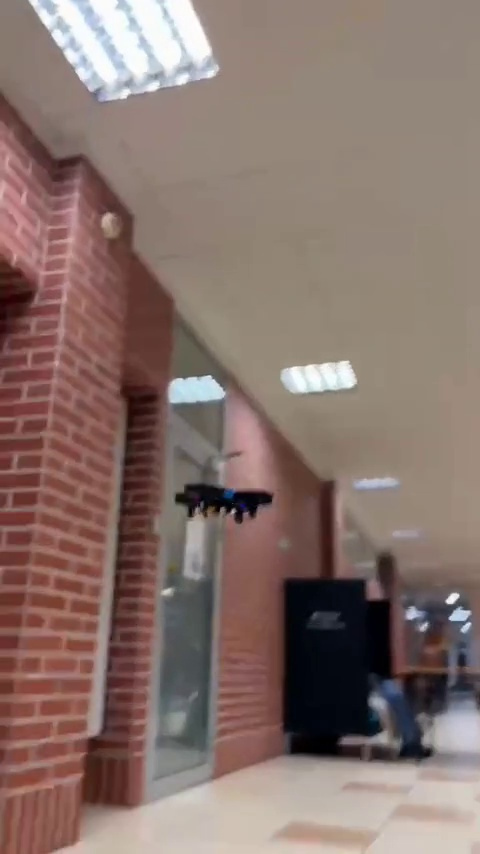drone: (173, 482, 276, 518)
